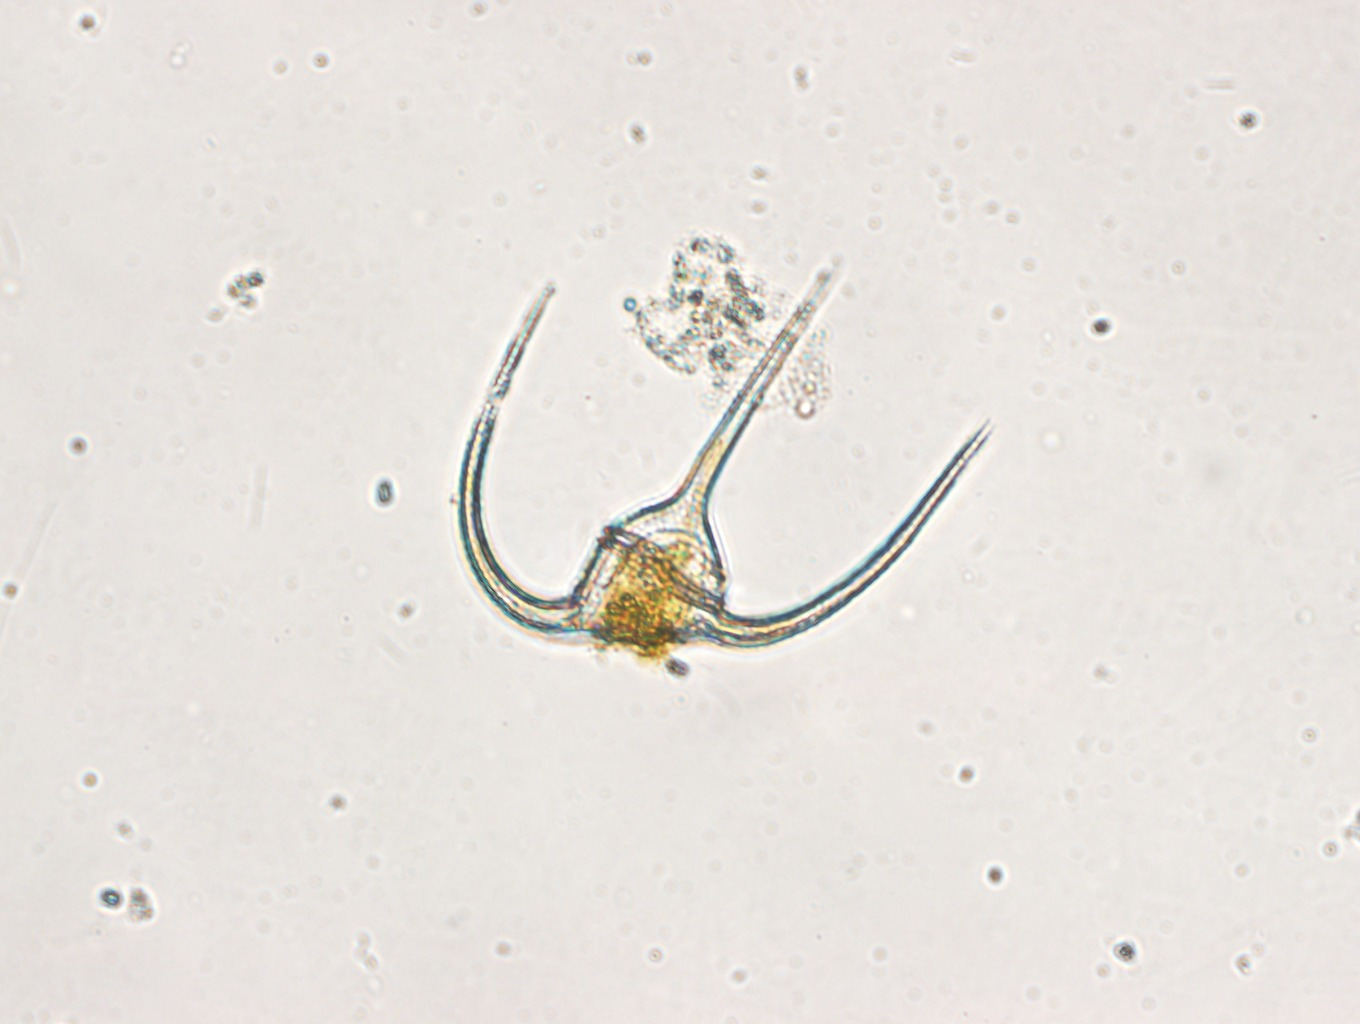ceratium trichoceros: (446, 248, 999, 662)
